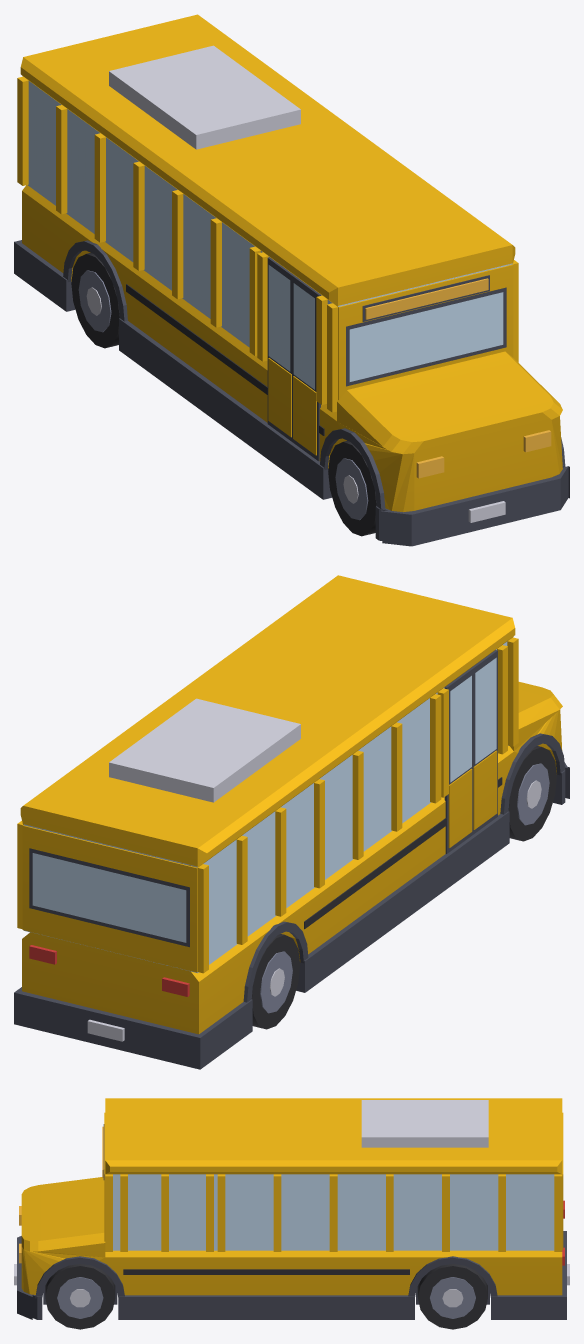
File: school-bus.glb
The picture shows the model from 3 angles, top to bottom: view 1: azimuth 30°, elevation 25°; view 2: azimuth 150°, elevation 25°; view 3: azimuth 270°, elevation 25°; orthographic projection. The views are drawn at different scales.
Parts seen in each view (by area): view 1: roof, lower, window-band, shoulder, pillar (×10), windows, roof-unit, skirt (×2), bumper-front, tire (×2), front-panel, door-leaf (×2) (+7 smaller); view 2: roof, lower, window-band, pillar (×10), windows, roof-unit, skirt (×2), rear-panel, bumper-back, shoulder, tire (×2), door-leaf (×2) (+5 smaller); view 3: roof, window-band, lower, skirt (×2), shoulder, pillar (×11), roof-unit, tire (×2), rim (×2), flare (×2), stripe, hub (×2) (+2 smaller).
Boxes of the visible parts, x1=… form: roof: x1=20, y1=14, x2=515, y2=306; lower: x1=22, y1=191, x2=562, y2=512; window-band: x1=28, y1=81, x2=512, y2=347; shoulder: x1=22, y1=185, x2=562, y2=454; pillar (×10): x1=17, y1=76, x2=518, y2=412; windows: x1=268, y1=265, x2=503, y2=389; roof-unit: x1=109, y1=45, x2=300, y2=149; skirt (×2): x1=17, y1=243, x2=332, y2=499; bumper-front: x1=382, y1=466, x2=569, y2=546; tire (×2): x1=71, y1=253, x2=376, y2=536; front-panel: x1=338, y1=264, x2=513, y2=400; door-leaf (×2): x1=268, y1=358, x2=316, y2=455; roof: x1=20, y1=575, x2=515, y2=867; lower: x1=22, y1=709, x2=562, y2=1034; window-band: x1=23, y1=641, x2=508, y2=973; pillar (×10): x1=17, y1=637, x2=518, y2=973; windows: x1=32, y1=657, x2=496, y2=942; roof-unit: x1=109, y1=698, x2=300, y2=802; skirt (×2): x1=20, y1=811, x2=509, y2=1066; rear-panel: x1=22, y1=825, x2=197, y2=972; bumper-back: x1=14, y1=987, x2=209, y2=1069; shoulder: x1=22, y1=682, x2=562, y2=981; tire (×2): x1=251, y1=746, x2=556, y2=1029; door-leaf (×2): x1=448, y1=750, x2=497, y2=848; roof: x1=105, y1=1098, x2=562, y2=1174; window-band: x1=113, y1=1174, x2=554, y2=1250; lower: x1=21, y1=1243, x2=562, y2=1295; skirt (×2): x1=118, y1=1295, x2=562, y2=1319; shoulder: x1=21, y1=1177, x2=562, y2=1257; pillar (×11): x1=105, y1=1174, x2=562, y2=1251; roof-unit: x1=361, y1=1100, x2=488, y2=1147; tire (×2): x1=45, y1=1264, x2=487, y2=1329; rim (×2): x1=57, y1=1277, x2=475, y2=1318; flare (×2): x1=35, y1=1256, x2=497, y2=1298; stripe: x1=123, y1=1269, x2=409, y2=1274; hub (×2): x1=70, y1=1289, x2=463, y2=1307.
Size of the model in its own units: 1.6 by 2.03 by 5.7.
